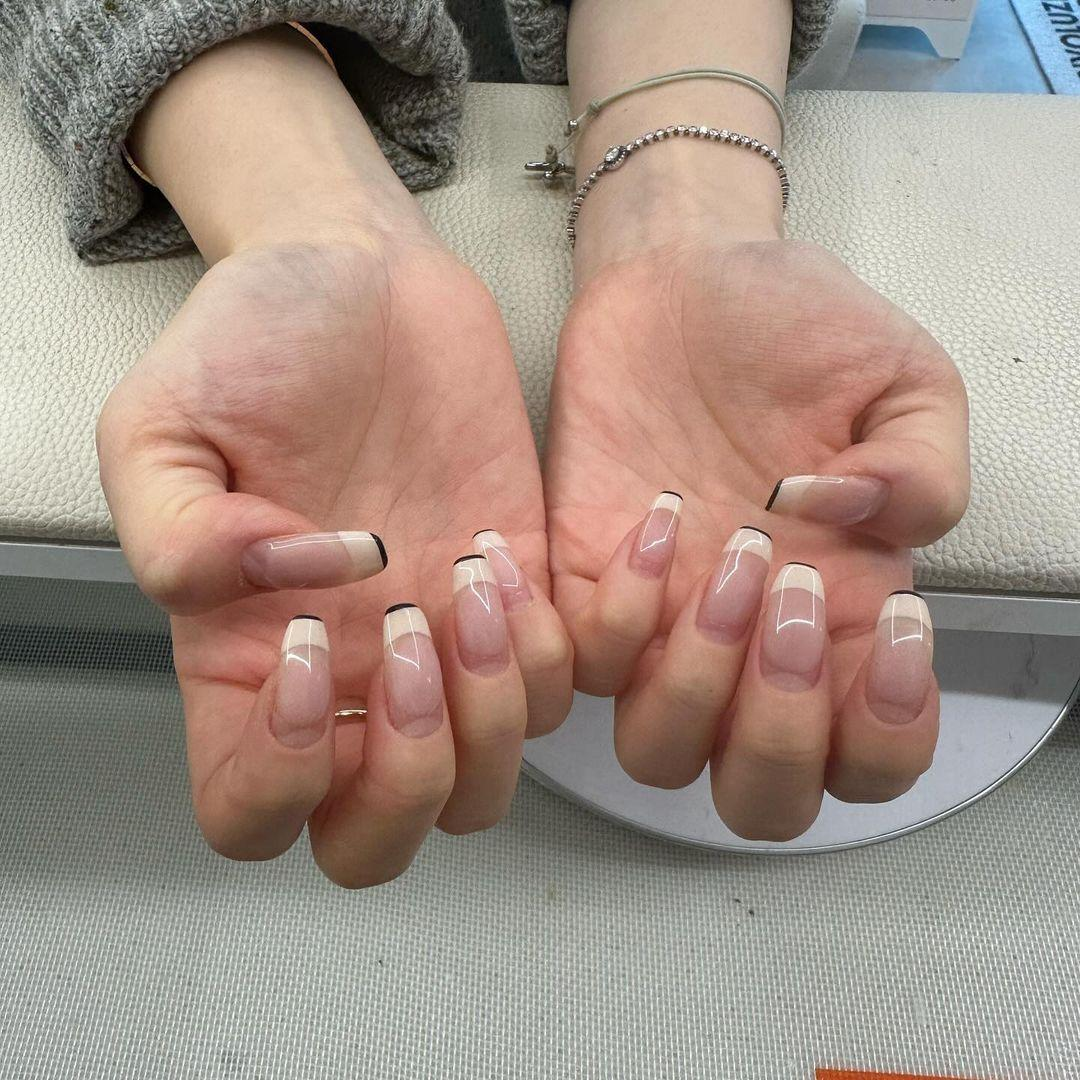nail: (864, 589, 934, 724), (239, 528, 388, 590), (695, 524, 773, 641), (380, 602, 445, 737), (268, 614, 332, 747), (760, 561, 827, 681), (450, 553, 510, 673), (764, 472, 890, 527), (471, 528, 533, 612), (628, 489, 683, 577), (333, 695, 367, 723)
